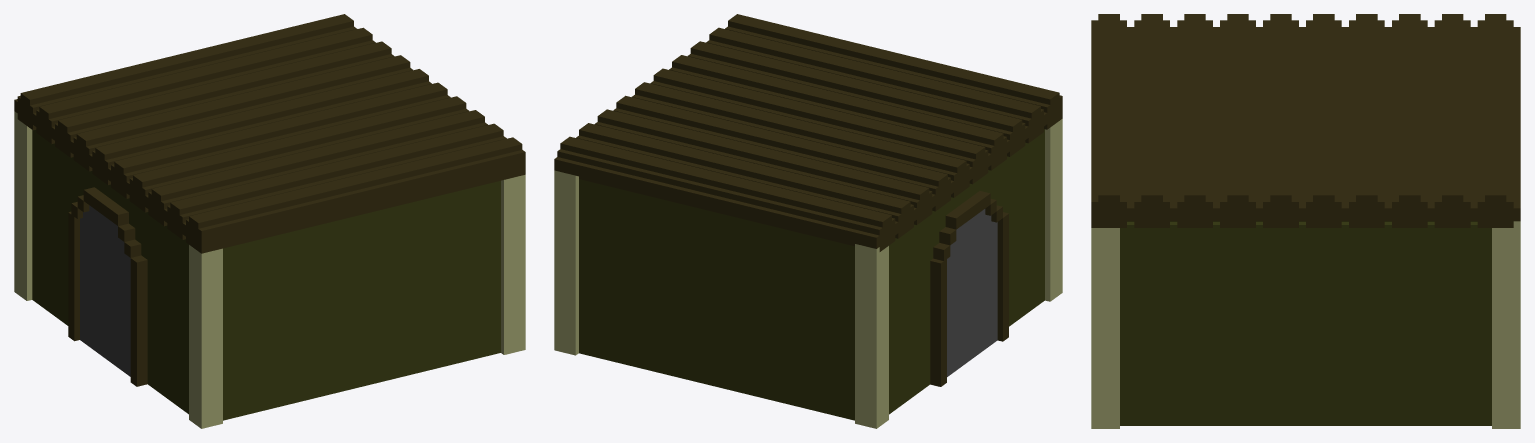
Rendered from HouseSmall-2.obj.
3 views of the same model, side by side, from view 1: azimuth 30°, elevation 25°; view 2: azimuth 150°, elevation 25°; view 3: azimuth 270°, elevation 25° (orthographic). The views are drawn at different scales.
Size of the model in its own units: 6.1 by 3.6 by 6.
